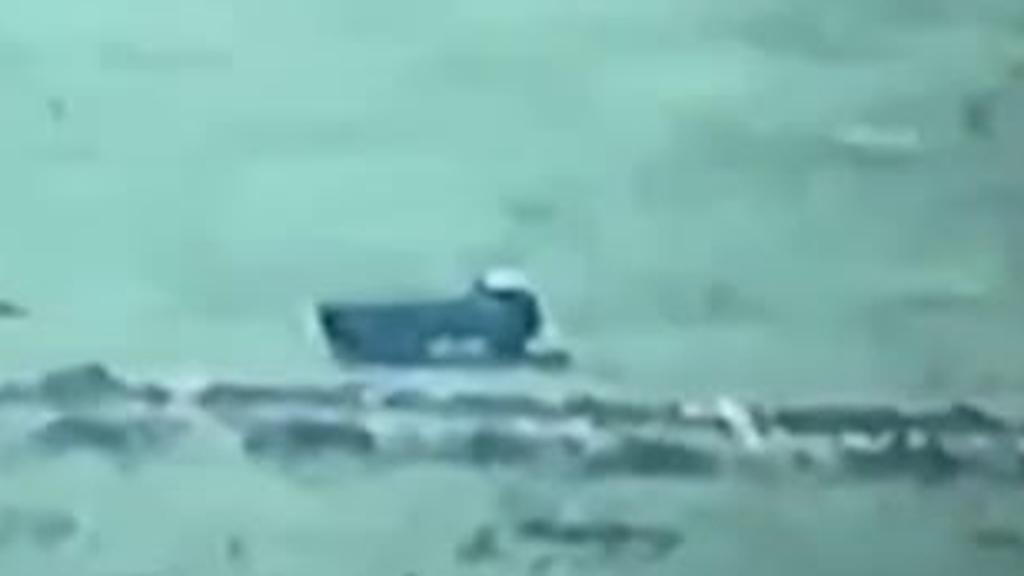TRUCK: (316, 266, 538, 367)
